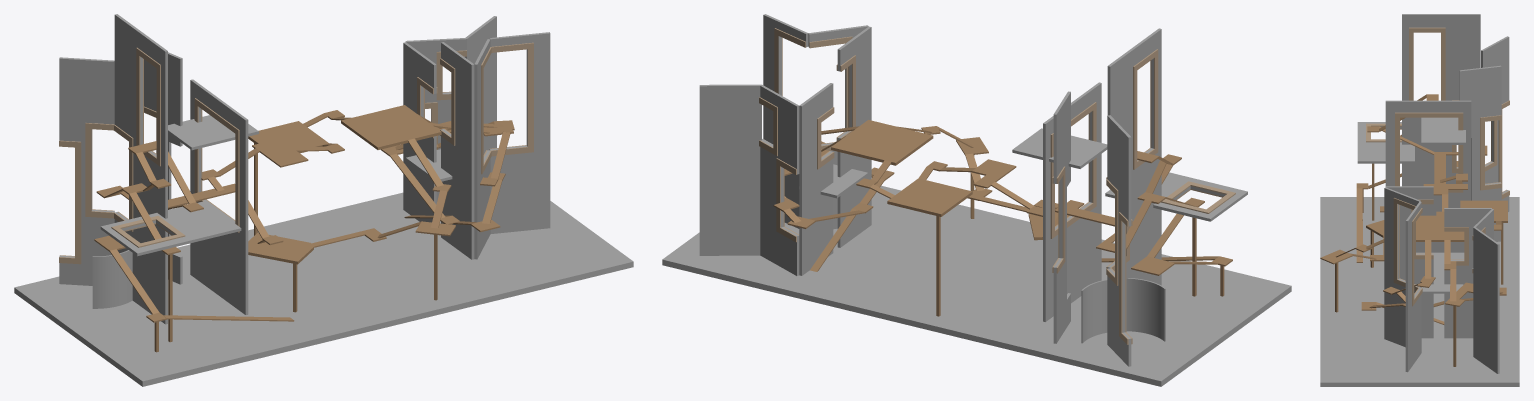
Rendered from 07_XUAN.glb.
The picture shows the model from 3 angles, left to right: view 1: azimuth 30°, elevation 25°; view 2: azimuth 150°, elevation 25°; view 3: azimuth 270°, elevation 25°; orthographic projection. The views are drawn at different scales.
Parts seen in each view (by area): view 1: 01 DIZUO, 06 KAO, 02 JIE, 03 DING, 07 XUAN, 05AN, 04 ZHUAN; view 2: 01 DIZUO, 06 KAO, 05AN, 03 DING, 07 XUAN, 04 ZHUAN, 02 JIE; view 3: 01 DIZUO, 06 KAO, 07 XUAN, 03 DING, 02 JIE, 05AN, 04 ZHUAN.
Boxes of the visible parts, x1,y1,x2,y2 form: 01 DIZUO: [14, 105, 633, 386]; 06 KAO: [59, 14, 241, 324]; 02 JIE: [474, 32, 550, 259]; 03 DING: [403, 42, 474, 259]; 07 XUAN: [168, 79, 258, 314]; 05AN: [464, 16, 496, 154]; 04 ZHUAN: [405, 38, 466, 202]; 01 DIZUO: [662, 120, 1291, 386]; 06 KAO: [1052, 28, 1247, 366]; 05AN: [699, 84, 761, 255]; 03 DING: [799, 26, 871, 275]; 07 XUAN: [1012, 82, 1107, 321]; 04 ZHUAN: [759, 84, 799, 275]; 02 JIE: [763, 14, 868, 229]; 01 DIZUO: [1320, 94, 1519, 386]; 06 KAO: [1357, 14, 1509, 241]; 07 XUAN: [1385, 100, 1471, 252]; 03 DING: [1386, 186, 1491, 338]; 02 JIE: [1384, 187, 1422, 372]; 05AN: [1473, 227, 1499, 373]; 04 ZHUAN: [1472, 209, 1493, 273].
Size of the model in its own units: 9.23 by 5 by 4.18.
